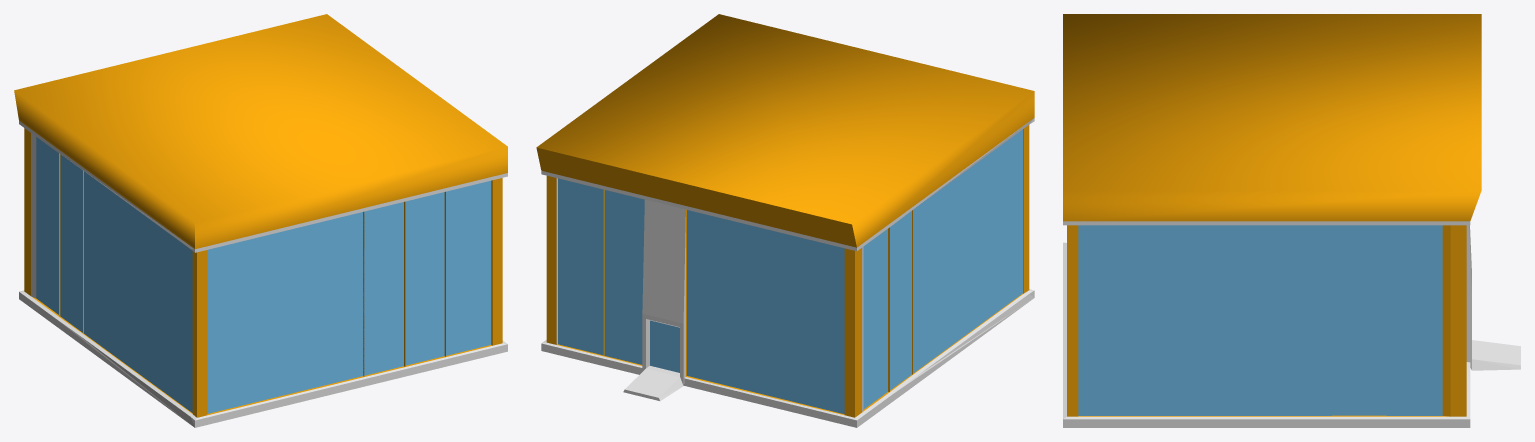
Rendered from Shop8x8x5Orange.fbx.
3 views of the same model, side by side, from view 1: azimuth 30°, elevation 25°; view 2: azimuth 150°, elevation 25°; view 3: azimuth 270°, elevation 25° (orthographic). The views are drawn at different scales.
Visible parts, largest first — view 1: Shop.001; view 2: Shop.001; view 3: Shop.001.
Part boxes in pixels (x1,y1,x2,y2): Shop.001: [14, 14, 507, 427]; Shop.001: [536, 14, 1034, 427]; Shop.001: [1063, 14, 1520, 427].
Size of the model in its own units: 7.96 by 4.99 by 8.72.
1 material, 1 textured.
